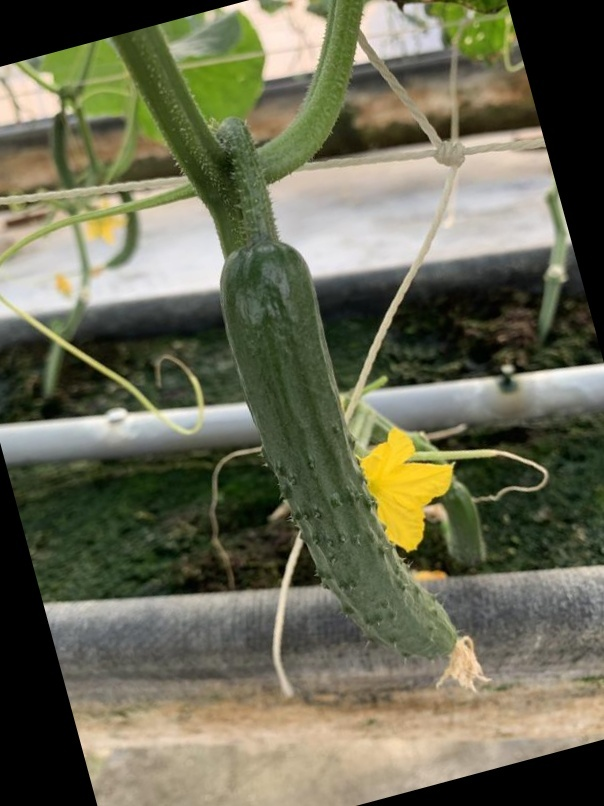mature: (204, 235, 477, 694)
